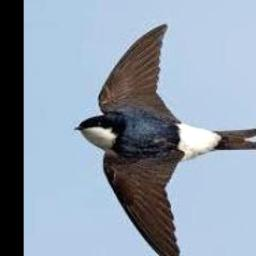Swallow: (73, 23, 256, 256)
